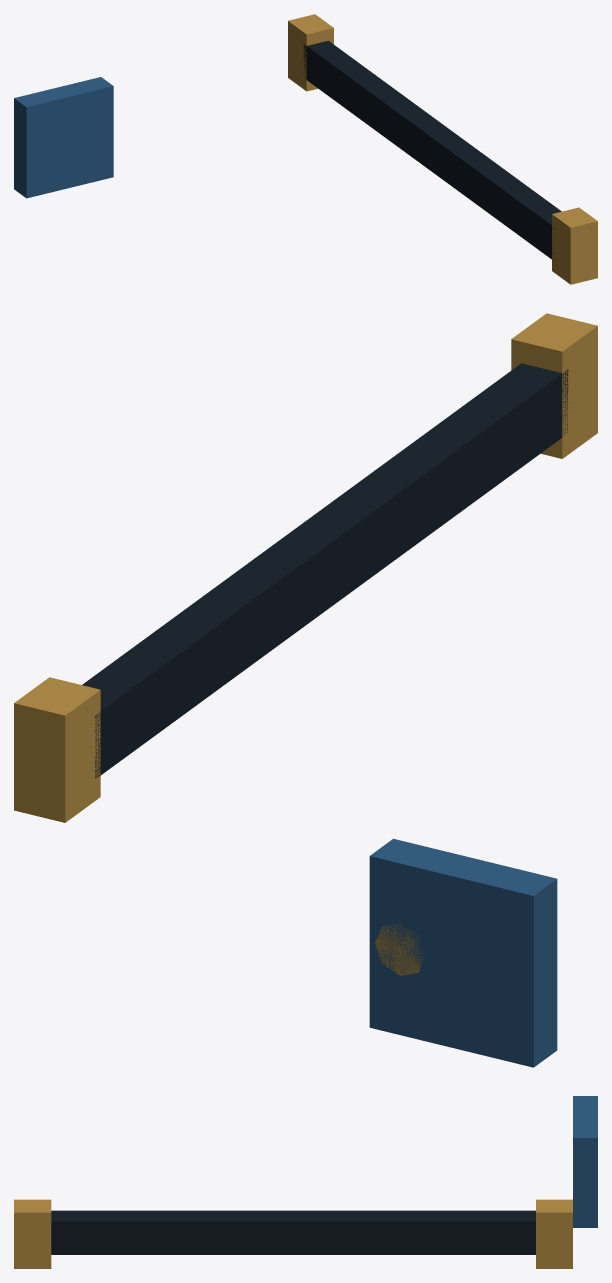
Rendered from pellet_level.obj.
3 views of the same model, one above another, from view 1: azimuth 30°, elevation 25°; view 2: azimuth 150°, elevation 25°; view 3: azimuth 270°, elevation 25° (orthographic). The views are drawn at different scales.
Visible parts, largest first — view 1: pellet_level; view 2: pellet_level; view 3: pellet_level.
Part boxes in pixels (bbox=[...]): pellet_level: bbox=[14, 14, 597, 284]; pellet_level: bbox=[14, 313, 597, 1067]; pellet_level: bbox=[14, 1096, 597, 1268].
Bounding box in the file's own units: 0.53 × 0.2 × 0.94.
